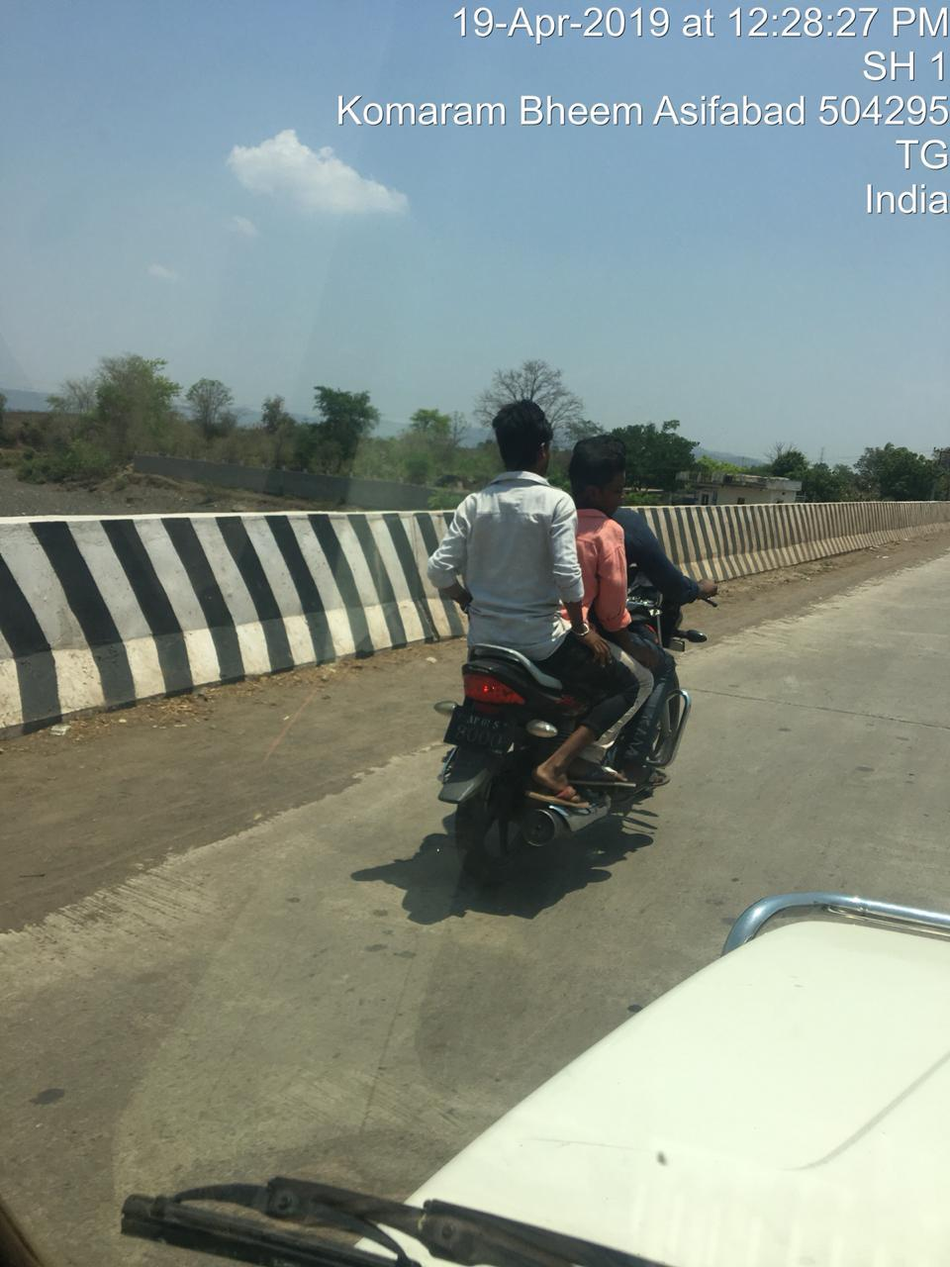plate: (427, 688, 549, 783)
